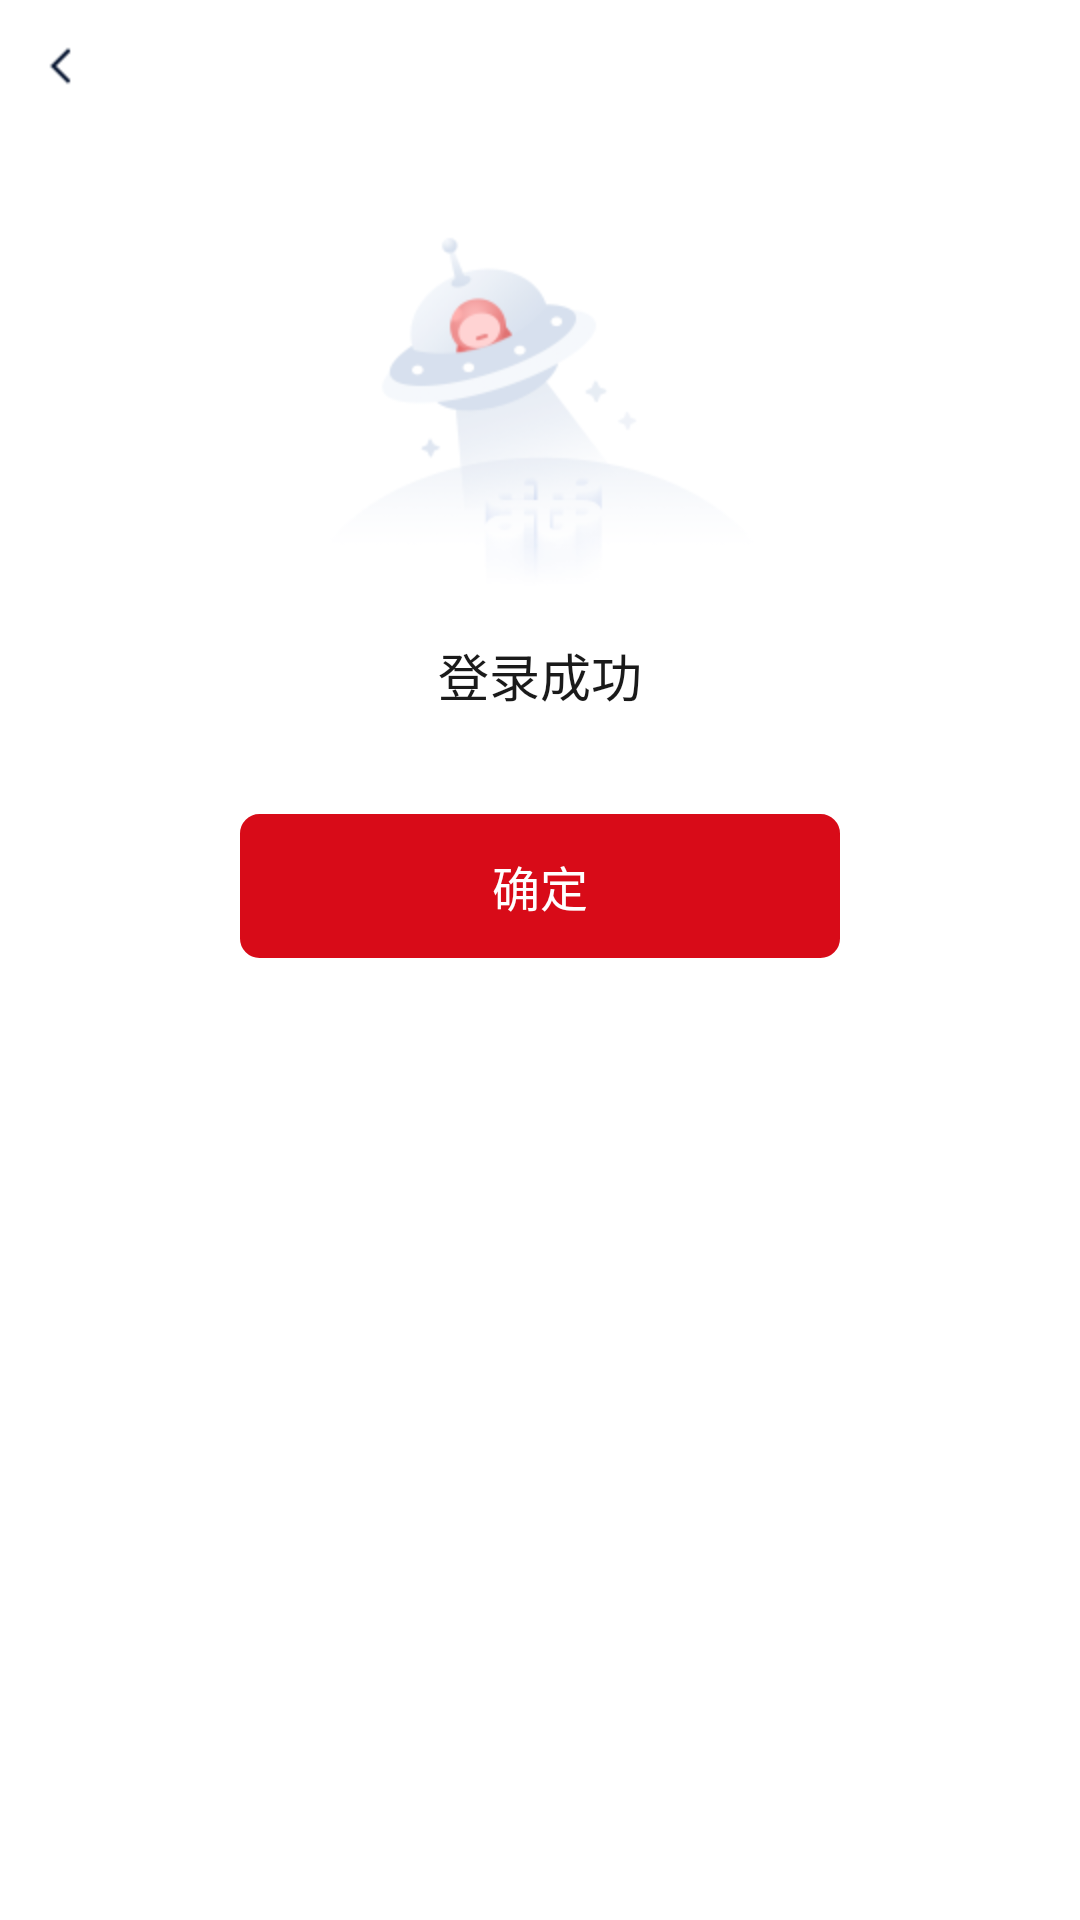

Locate icon controls on the screen. Image size 1080px×1920px, boxes as (x1, y1, x2, y2).
title back: (50, 48, 71, 84)
